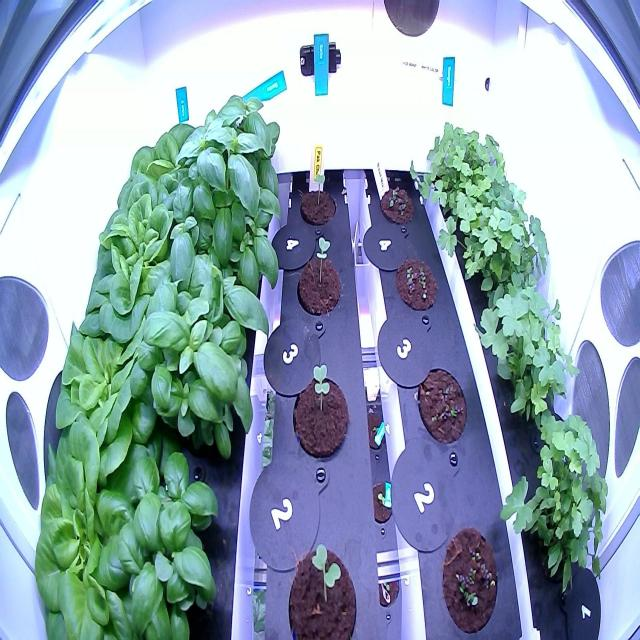Ready: (25, 418, 150, 635), (47, 292, 167, 491), (72, 188, 184, 354), (115, 121, 210, 259)
germination: (280, 534, 359, 638), (437, 521, 502, 636), (286, 358, 352, 462), (291, 230, 346, 318), (392, 250, 442, 314), (296, 166, 340, 231), (379, 172, 417, 231)
pod: (414, 361, 473, 452)
